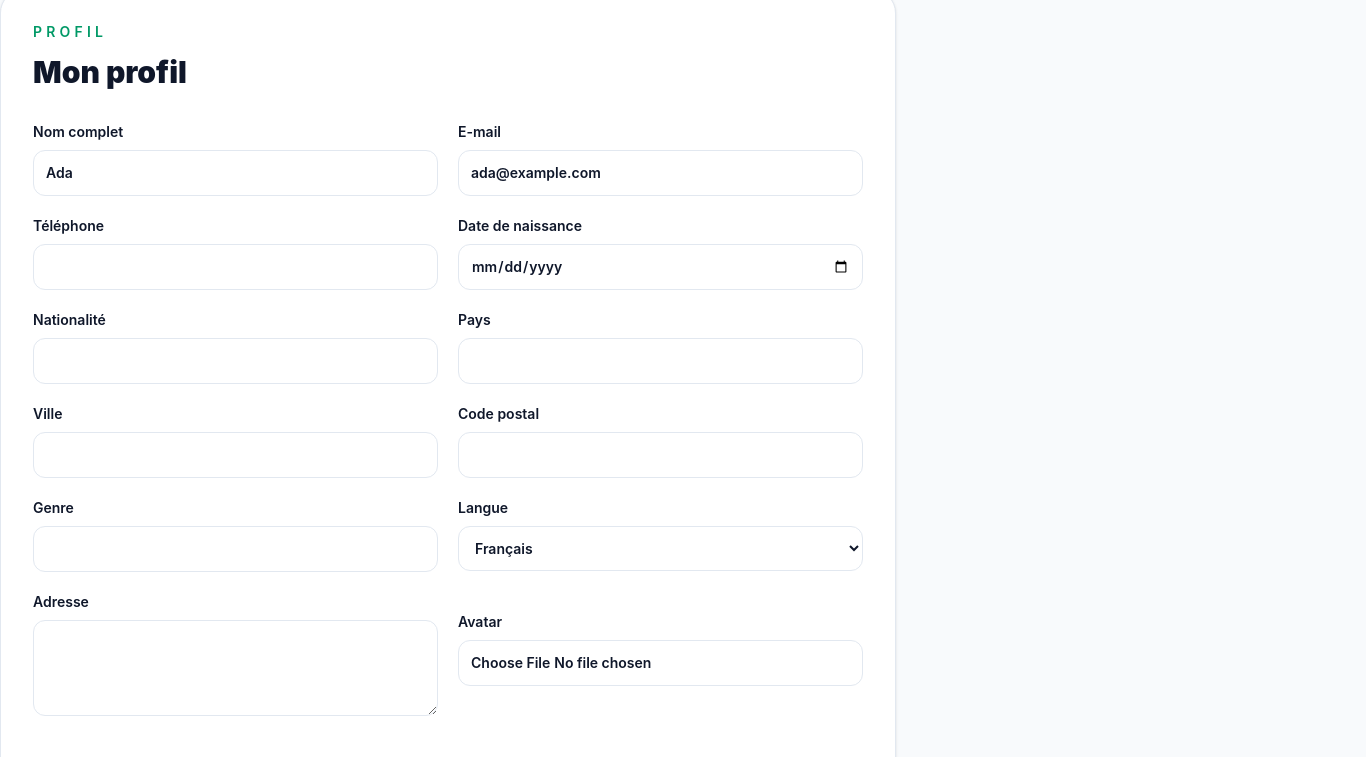
ProfilePage › submits the complete profile and synchronizes the session user
Replace the text in the field labelled "Nom complet" with "Ada Byron" at (236, 173), box [33,150,438,196]
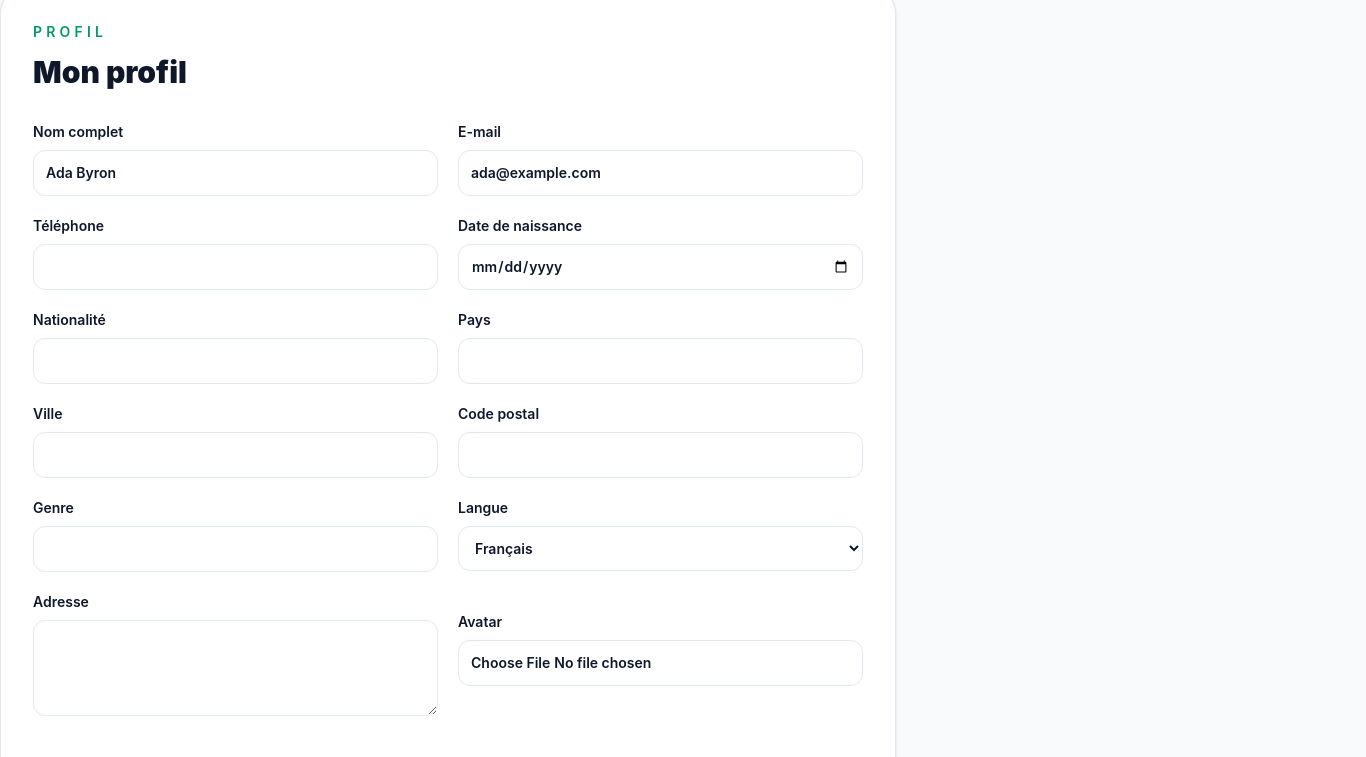
Type "+261 34" into the field labelled "Téléphone" at (236, 267), box [33,244,438,290]
(page scrolled)
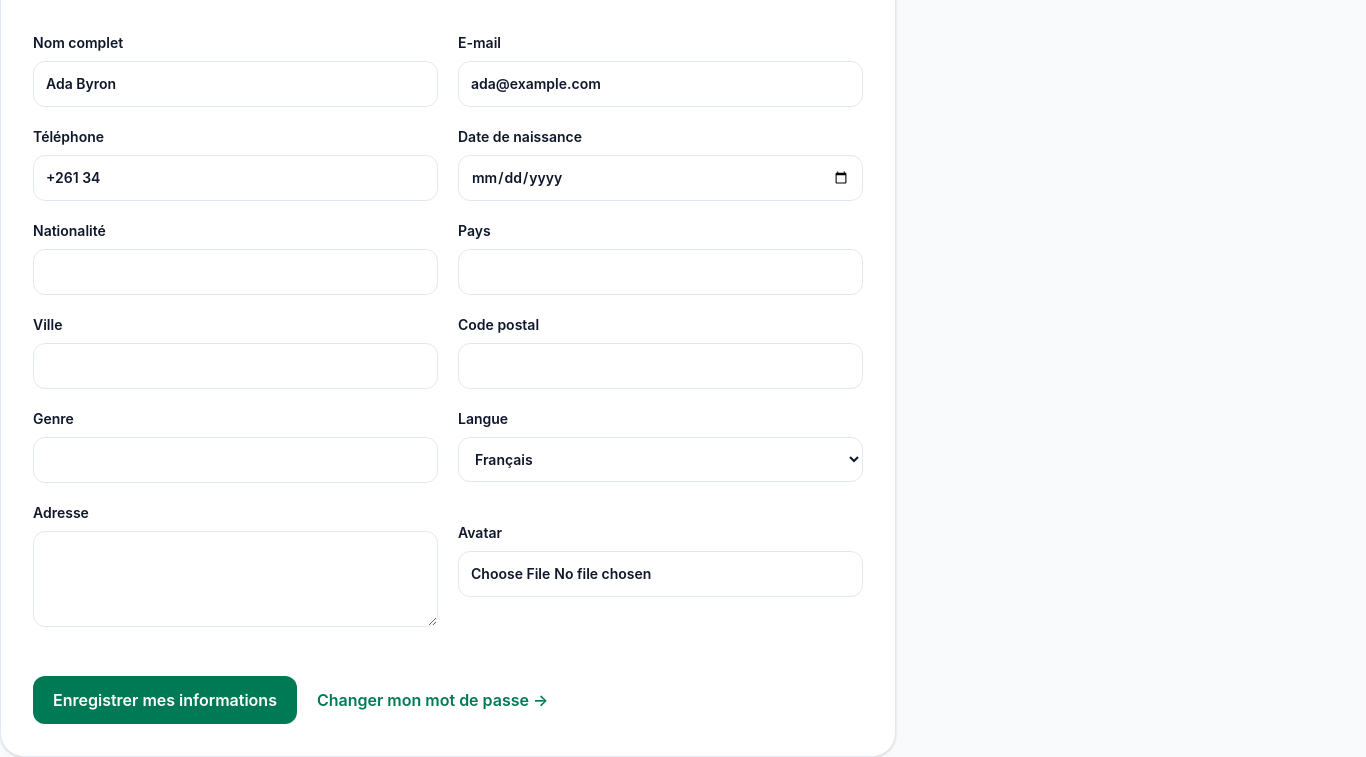
Click the button "Enregistrer mes informations" at (165, 700), box [33,676,297,724]
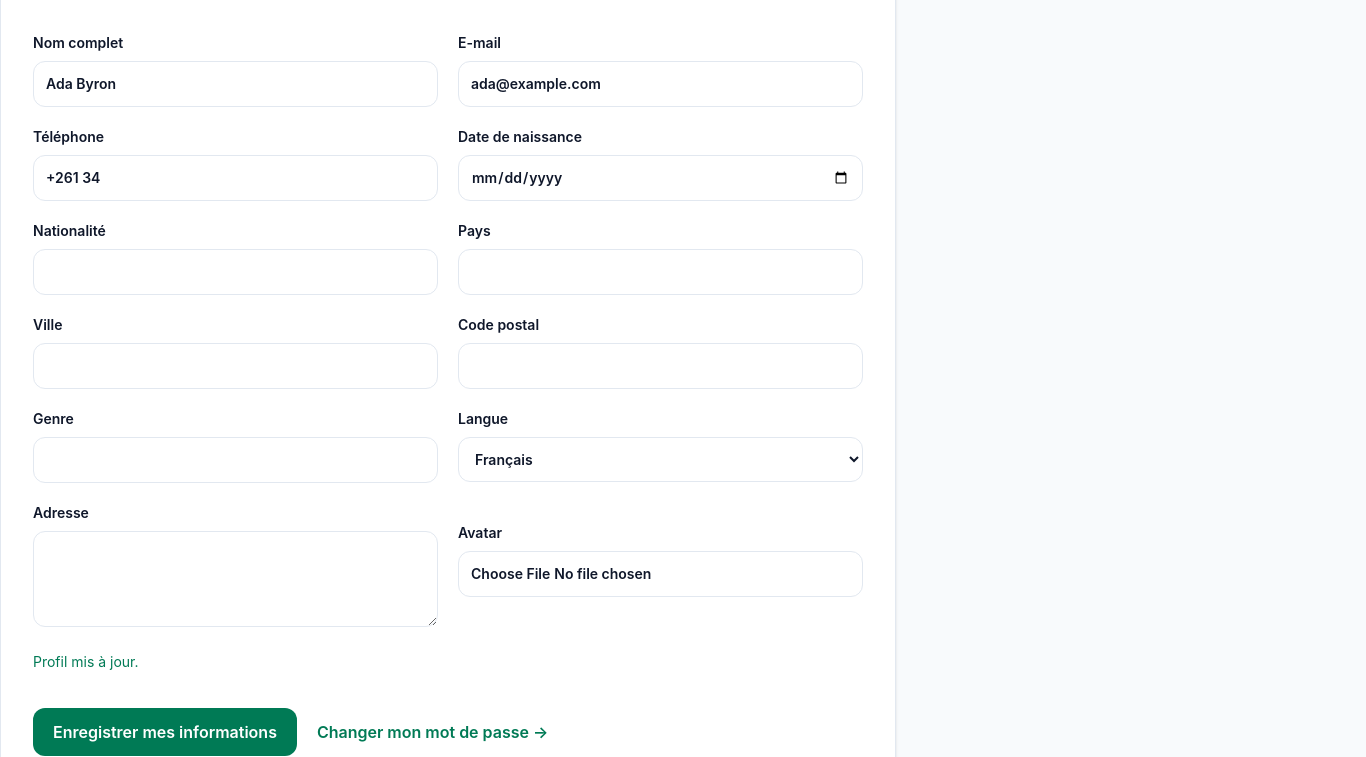
Check: the message reads "Profil mis à jour.", box [33,653,138,670]
